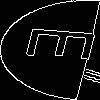E: (25, 25, 100, 64)
